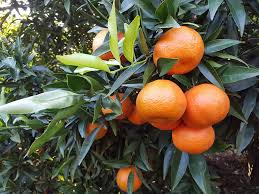orange: (152, 21, 207, 77), (180, 80, 231, 129), (136, 79, 188, 126), (113, 163, 148, 192)
